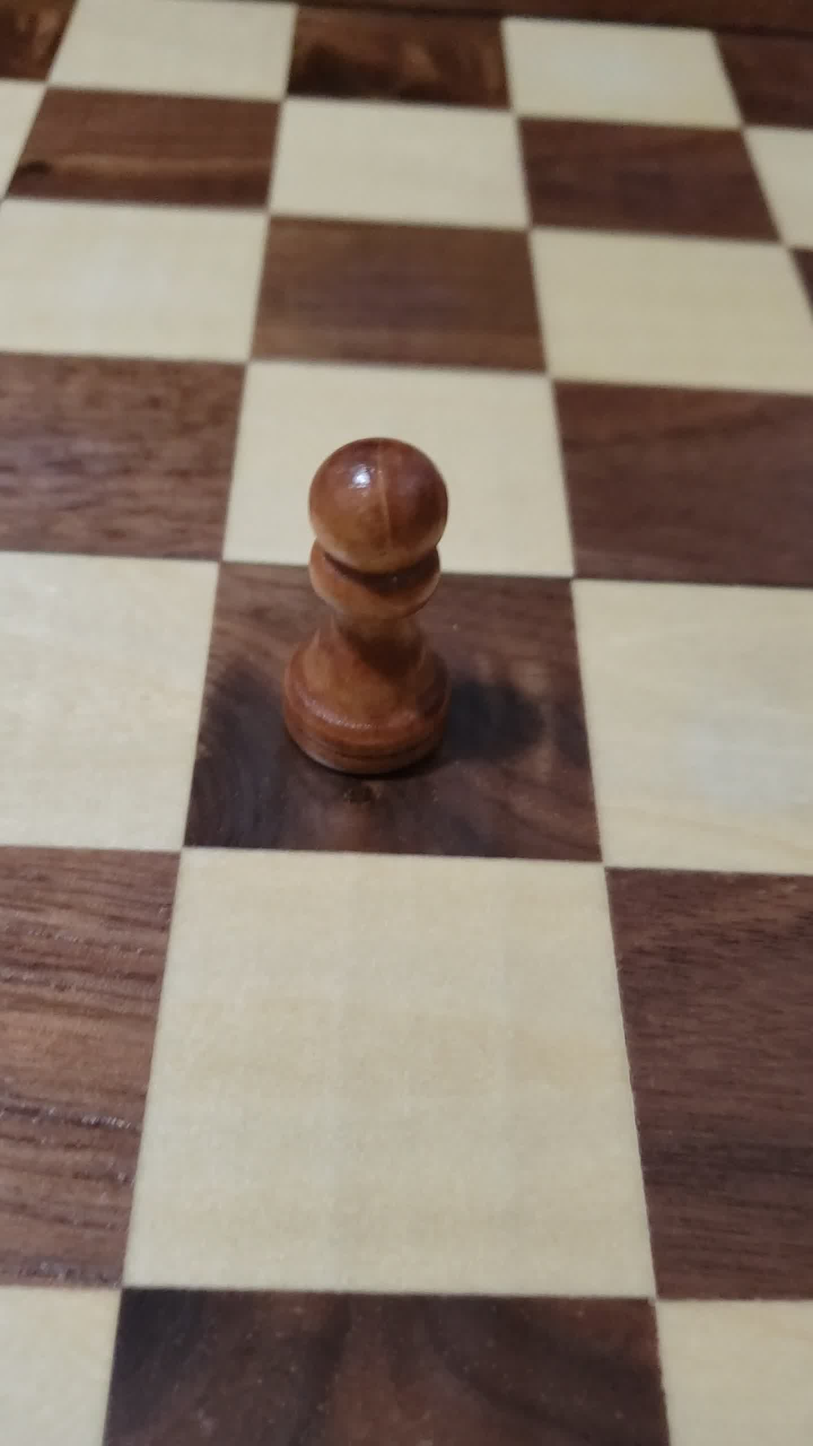black-pawn: (257, 404, 471, 802)
